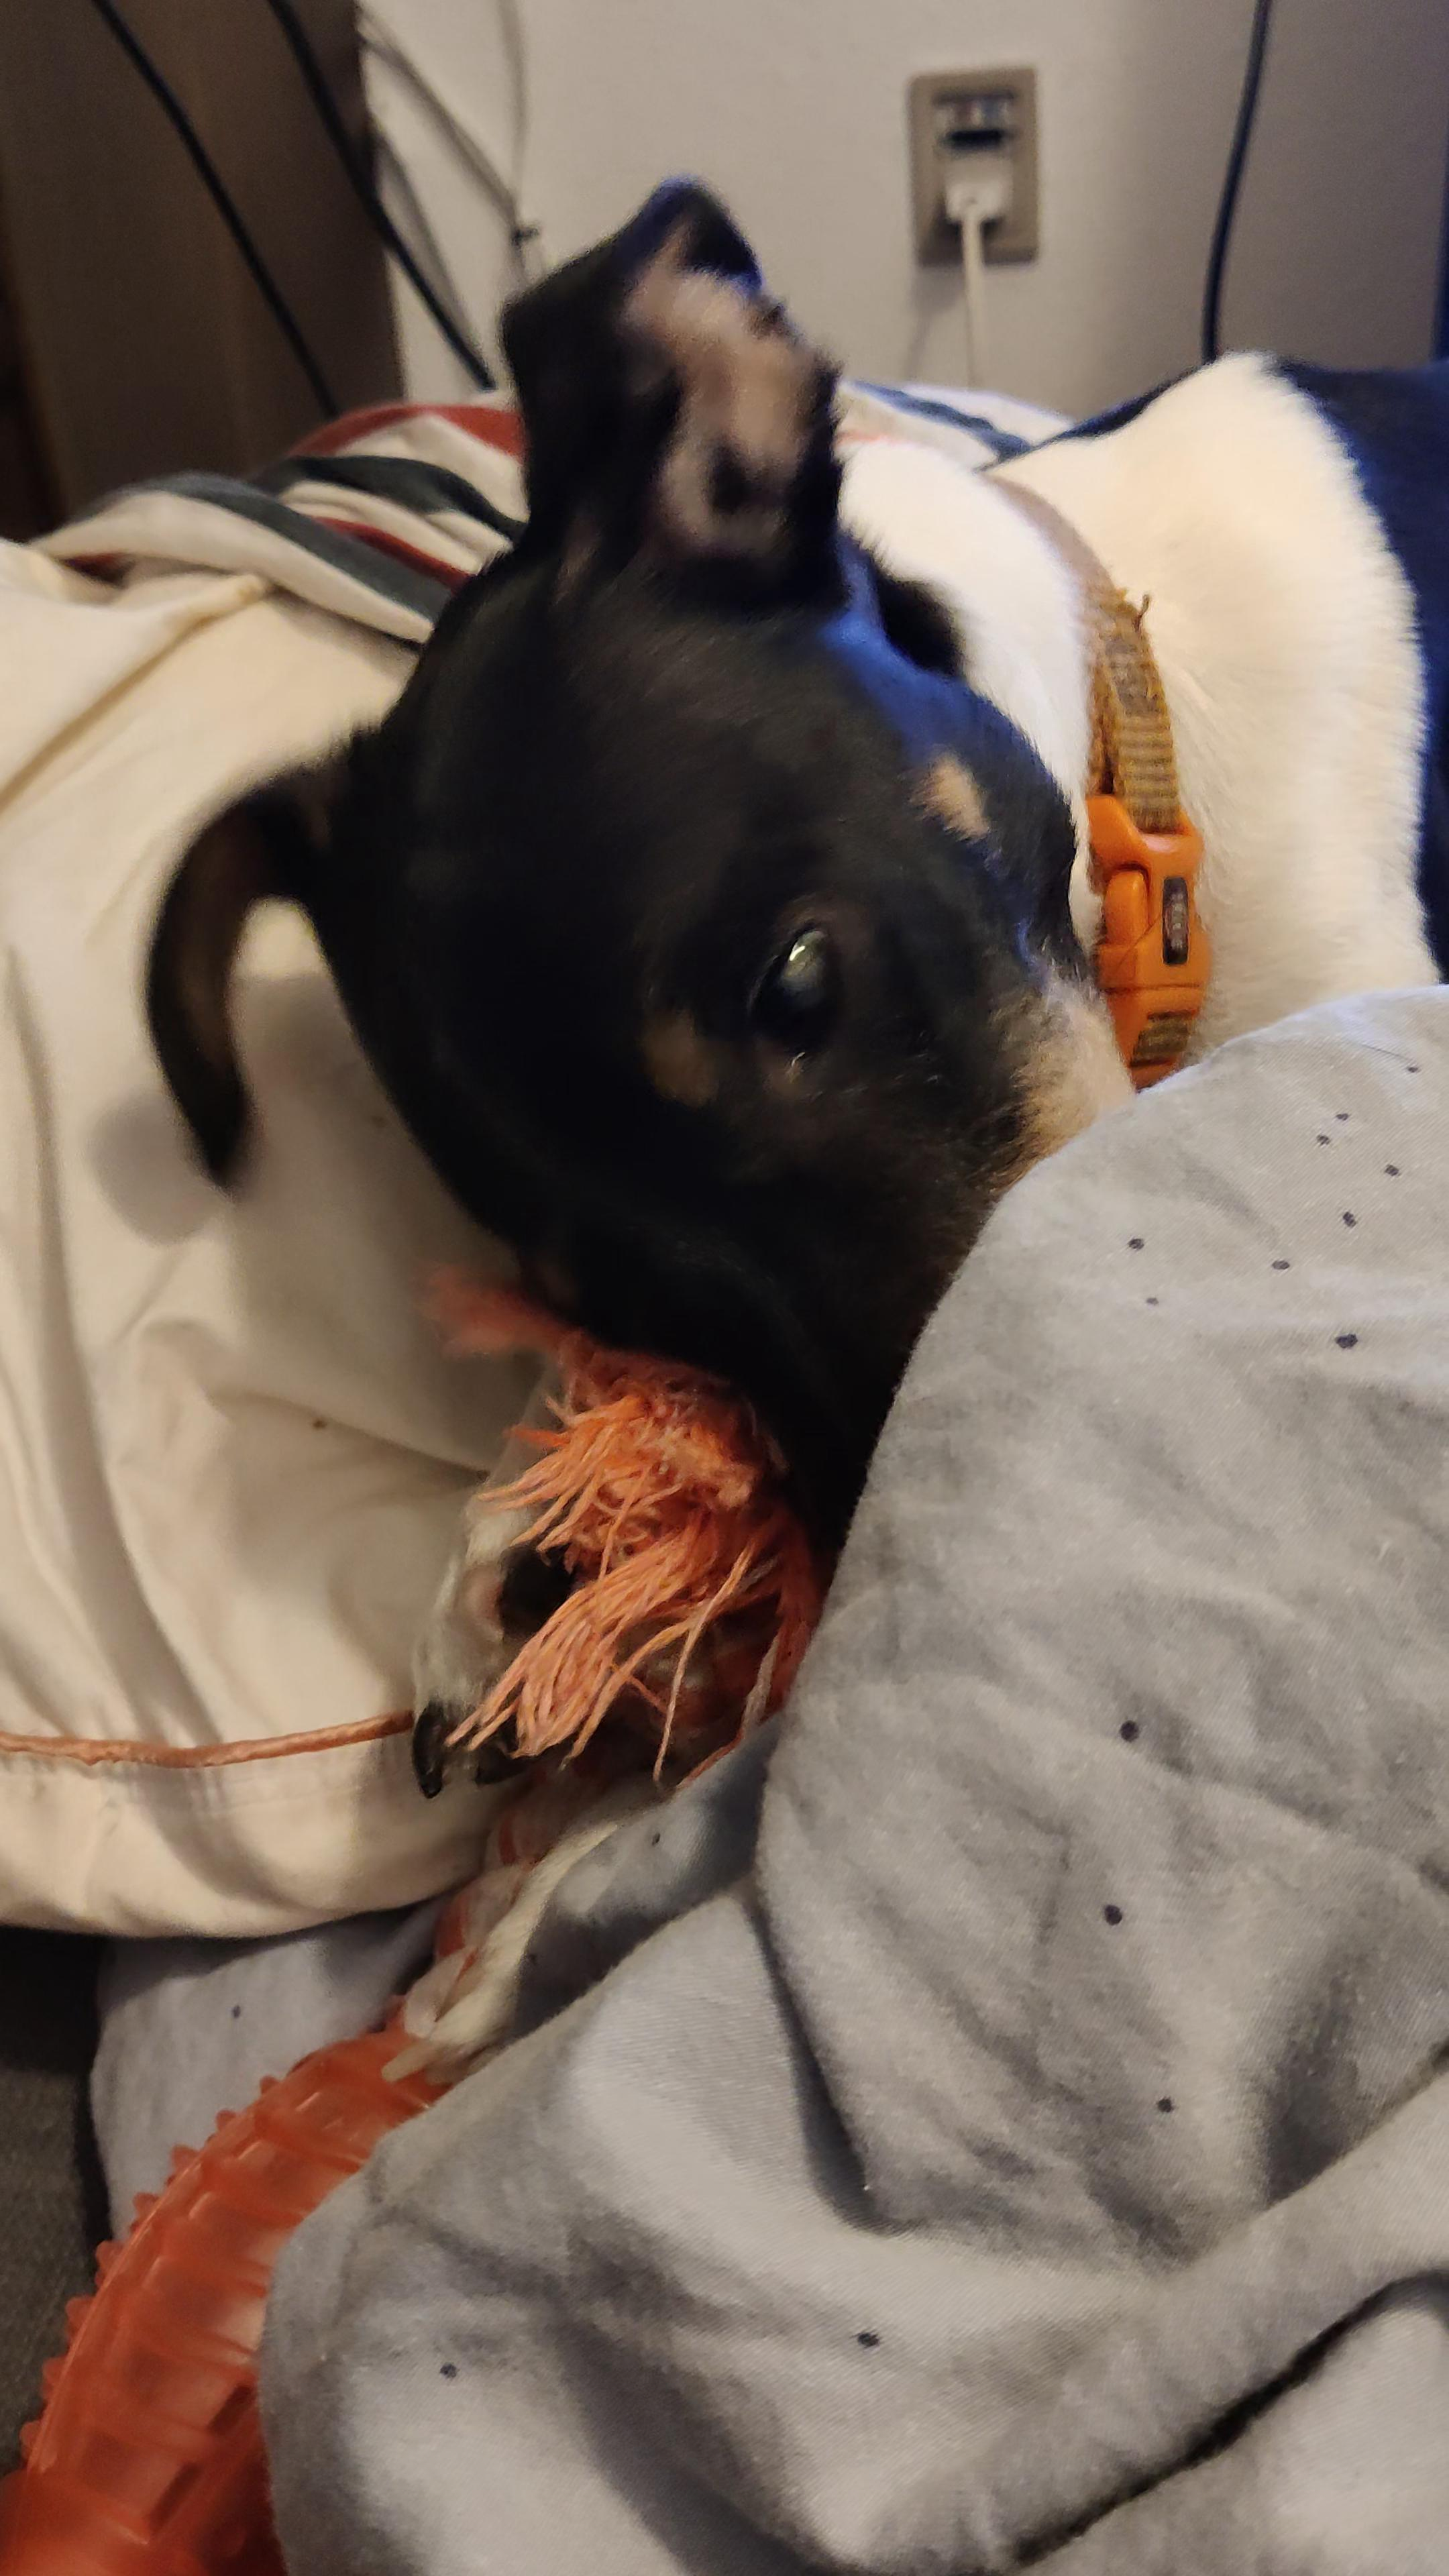Dog: (131, 175, 1449, 2100)
